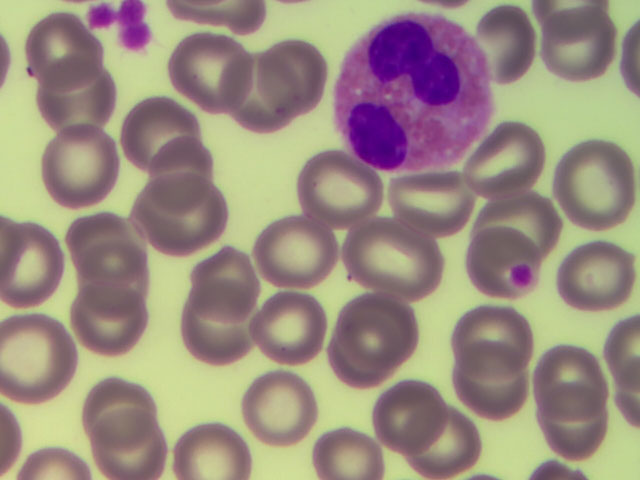Platelets: (116, 24, 153, 51), (86, 2, 116, 28), (116, 1, 147, 23), (509, 263, 533, 287)
RBC: (349, 218, 446, 296), (137, 178, 230, 254), (447, 347, 535, 420), (557, 142, 634, 225), (255, 213, 338, 289), (126, 97, 203, 177), (342, 294, 418, 375), (1, 321, 72, 407), (173, 36, 252, 113), (535, 347, 611, 427), (230, 44, 297, 134), (186, 281, 254, 369), (461, 306, 534, 386), (46, 130, 119, 208), (71, 218, 146, 293), (412, 405, 486, 480), (1, 218, 63, 307), (74, 289, 147, 359), (381, 379, 449, 453), (562, 245, 633, 315), (192, 251, 260, 322), (248, 373, 320, 440), (149, 134, 216, 206), (550, 11, 617, 83), (542, 391, 611, 460), (260, 293, 327, 364), (394, 175, 473, 235), (264, 37, 326, 113), (92, 418, 165, 480), (328, 326, 403, 386), (31, 29, 102, 92), (480, 129, 546, 195), (486, 194, 565, 249), (174, 426, 251, 480), (486, 2, 537, 83), (305, 164, 367, 229), (84, 387, 157, 442), (313, 432, 392, 480), (613, 318, 640, 427), (168, 1, 272, 27), (537, 1, 608, 31), (21, 455, 97, 480), (523, 455, 589, 480), (624, 21, 640, 94), (1, 407, 14, 477), (1, 34, 10, 83)
WBC: (337, 13, 489, 171)
